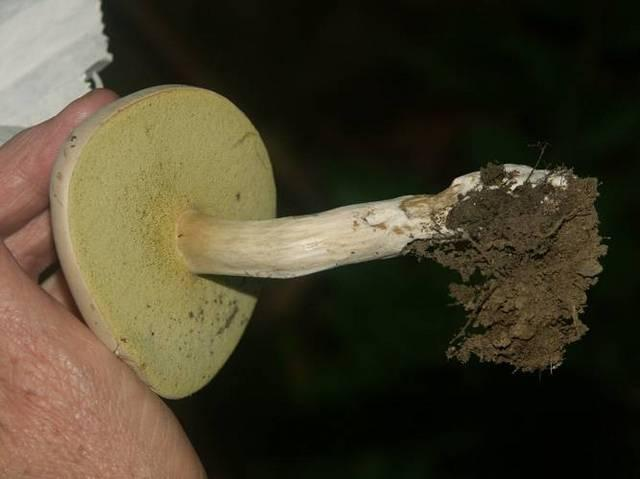edible_mushroom: (47, 85, 604, 400)
